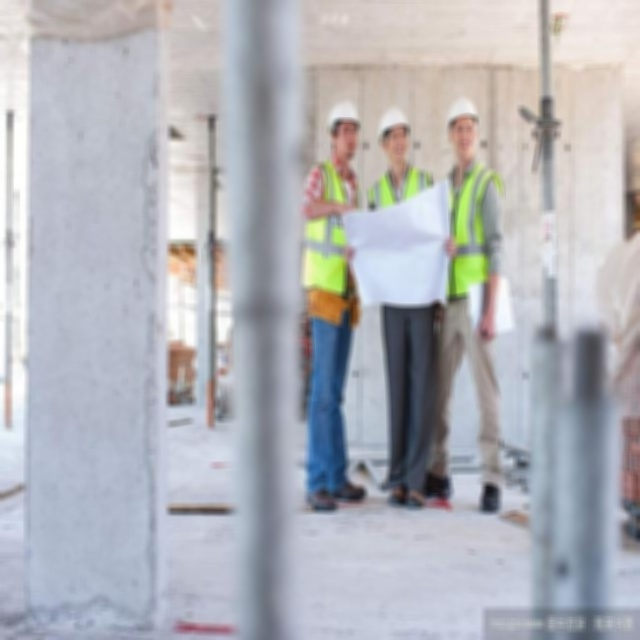Con_Casco: (326, 99, 362, 161), (446, 97, 480, 159), (379, 105, 409, 162)
